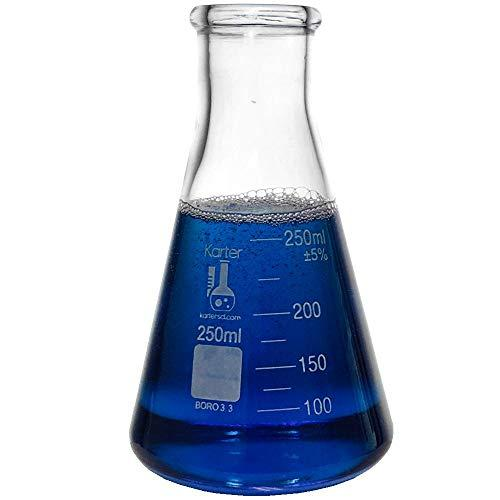Titrarion: (143, 7, 401, 495)
object: (110, 241, 136, 252)
